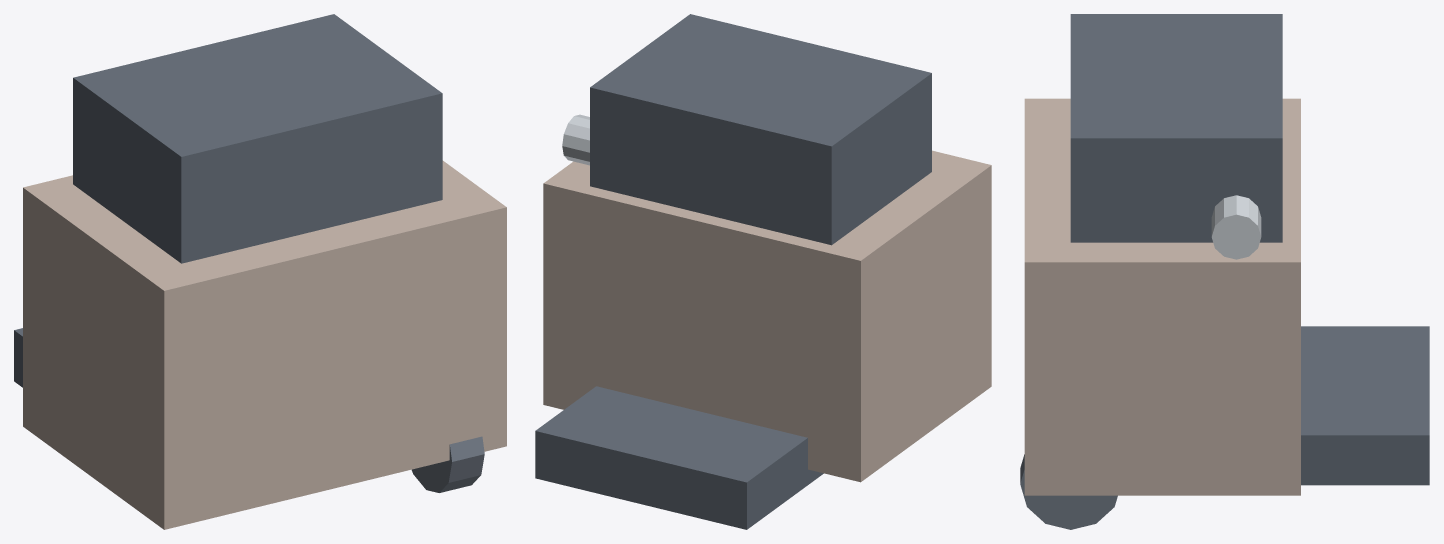
Rendered from trituradora_0.glb.
3 views of the same model, side by side, from view 1: azimuth 30°, elevation 25°; view 2: azimuth 150°, elevation 25°; view 3: azimuth 270°, elevation 25° (orthographic). The views are drawn at different scales.
Parts seen in each view (by area): view 1: chasis, tolva, rueda; view 2: chasis, tolva, cinta, rodillo; view 3: chasis, tolva, cinta, rodillo, rueda.
Part boxes in pixels (x1,y1,x2,y2): chasis: (23,160,506,529); tolva: (73,14,442,263); rueda: (411,436,484,492); chasis: (543,150,991,482); tolva: (590,14,931,245); cinta: (535,386,823,529); rodillo: (562,114,589,165); chasis: (1024,98,1300,495); tolva: (1070,14,1282,242); cinta: (1301,326,1429,485); rodillo: (1211,195,1261,259); rueda: (1020,454,1117,529).
Bounding box in the file's own units: 0.8217 × 0.9 × 0.8707.
